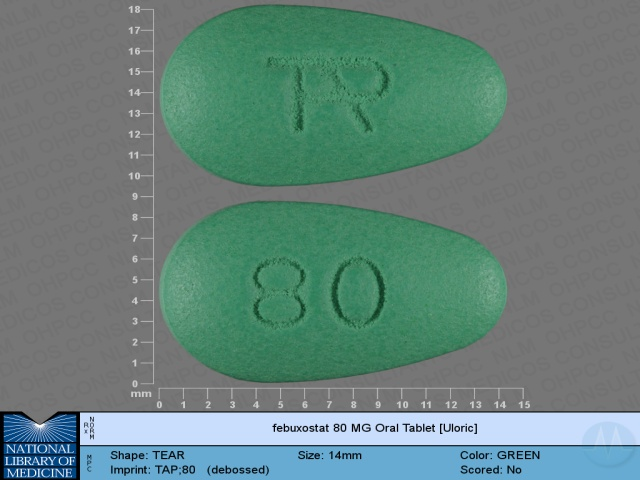0: (325, 250, 392, 336)
8: (250, 251, 313, 337)
TR: (260, 44, 394, 146)
